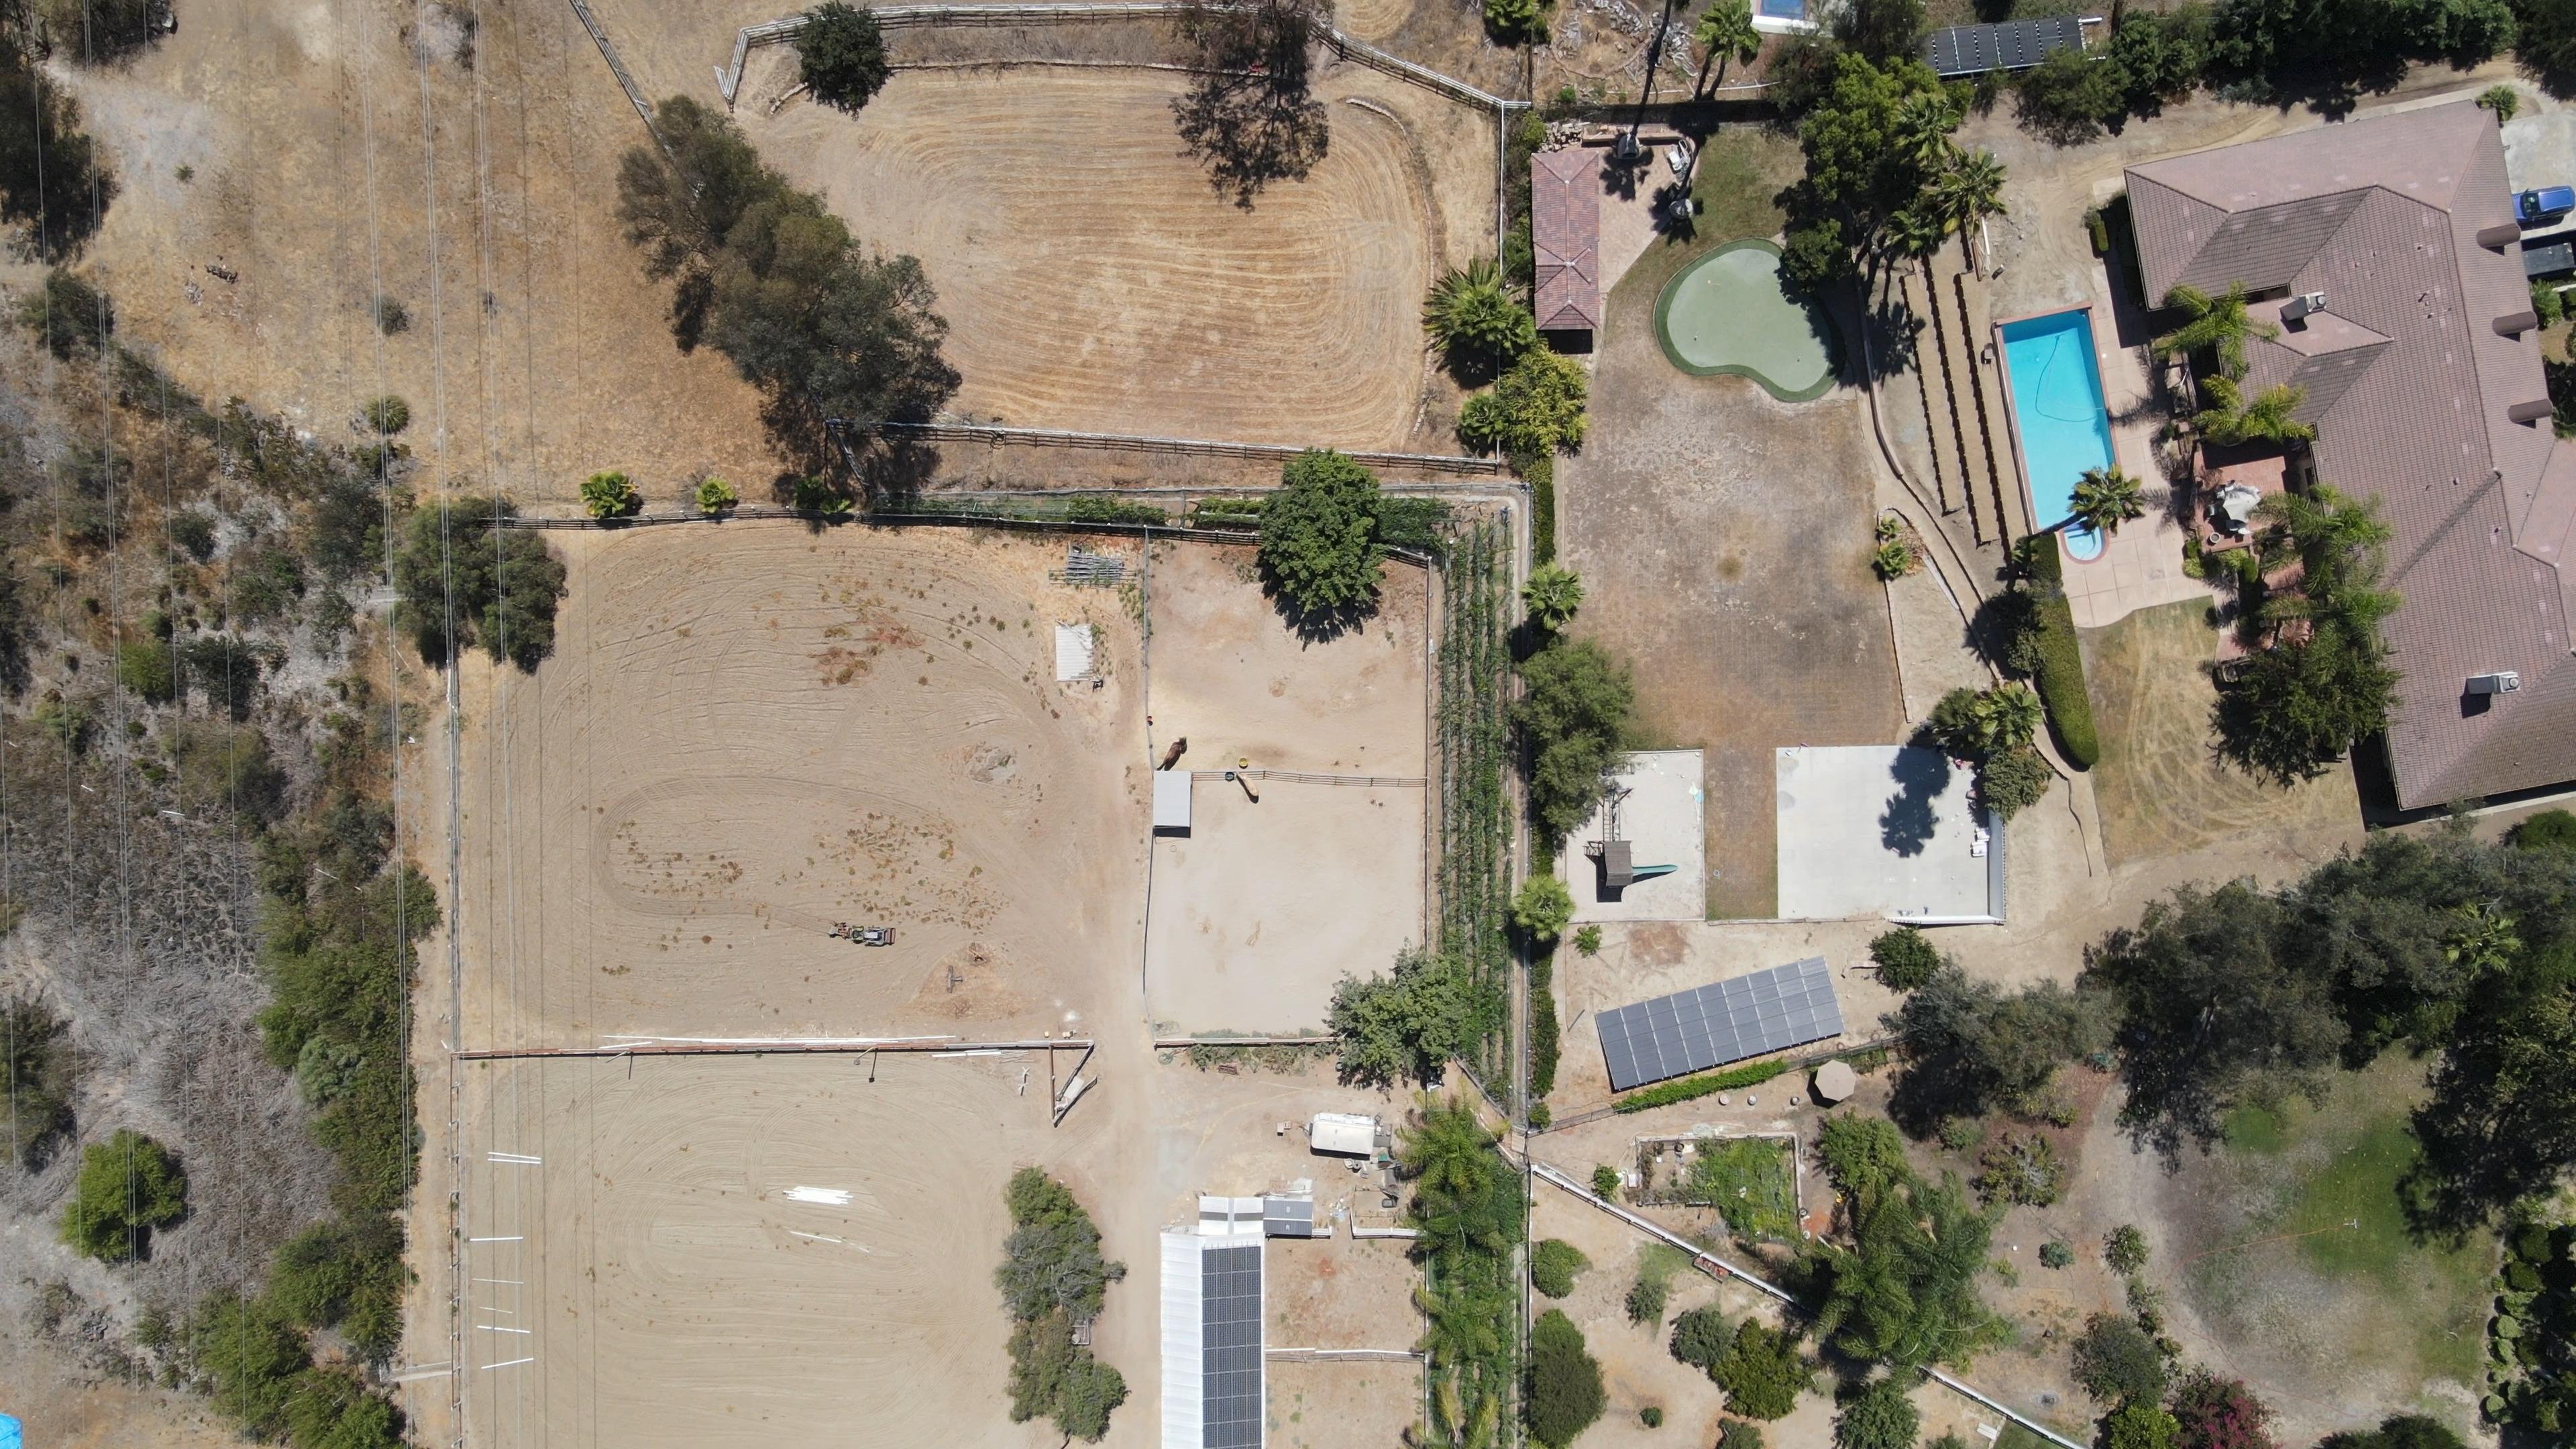panel: (1594, 954, 1845, 1092), (1201, 1244, 1261, 1449), (1913, 14, 2086, 78)
